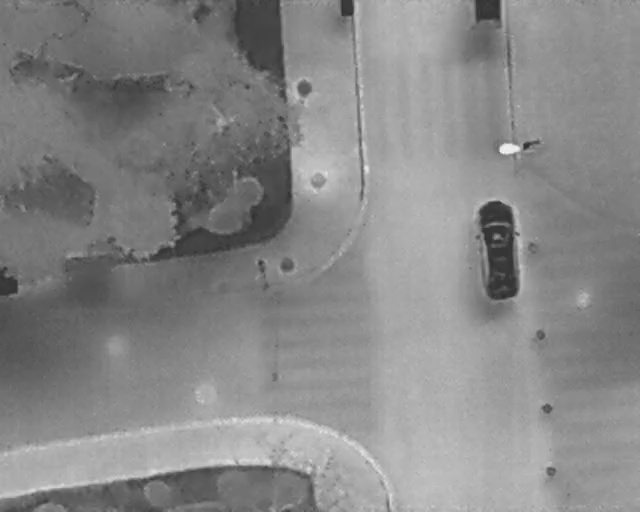Car: (473, 197, 524, 303)
